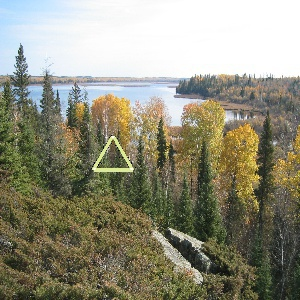triangle: (88, 132, 136, 175)
